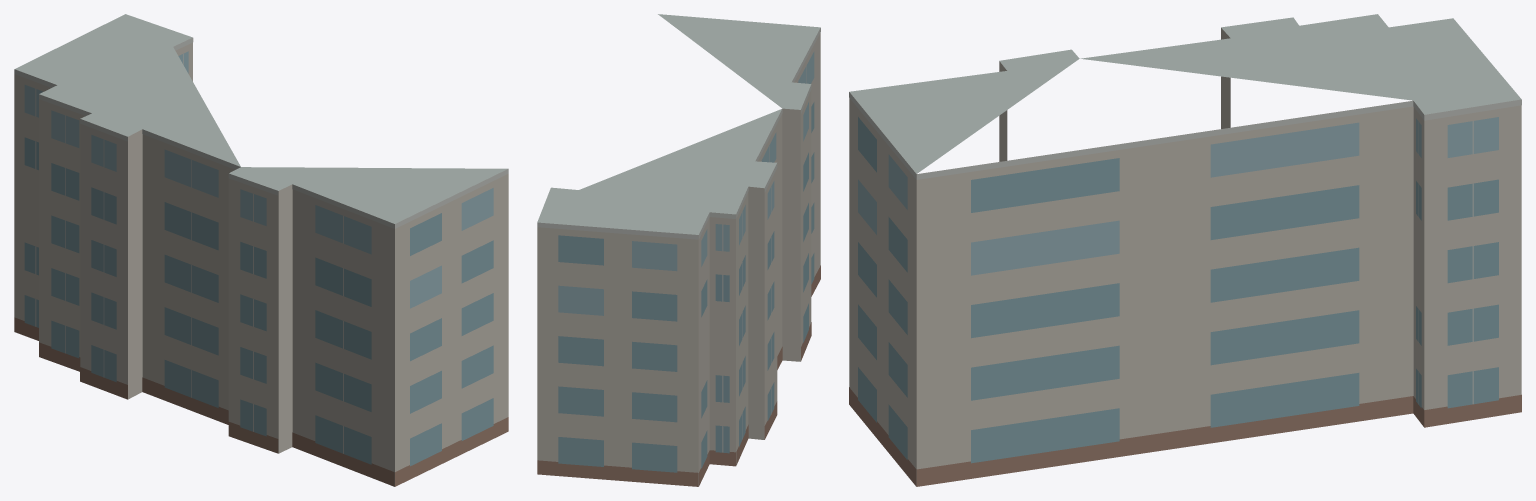
Rendered from survey-upis-32598598.glb.
The picture shows the model from 3 angles, left to right: view 1: azimuth 30°, elevation 25°; view 2: azimuth 150°, elevation 25°; view 3: azimuth 270°, elevation 25°; orthographic projection. The views are drawn at different scales.
Parts seen in each view (by area): view 1: survey-upis-32598598.tmp; view 2: survey-upis-32598598.tmp; view 3: survey-upis-32598598.tmp.
Part boxes in pixels (left/top/right/bottom): survey-upis-32598598.tmp: left=14, top=14, right=508, bottom=486; survey-upis-32598598.tmp: left=537, top=14, right=820, bottom=486; survey-upis-32598598.tmp: left=849, top=14, right=1521, bottom=486.
Bounding box in the file's own units: 14.39 × 13.1 × 25.54.
